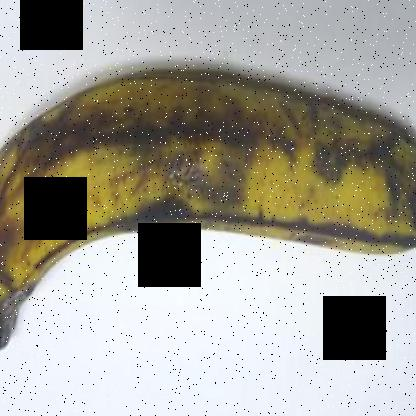overripe: (0, 60, 415, 366)
